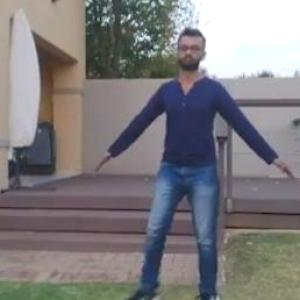land: (95, 36, 291, 299)
